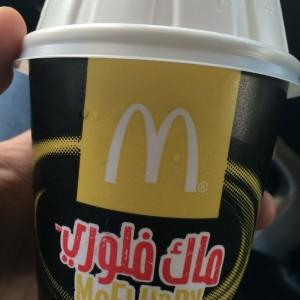mcdonalds: (100, 95, 207, 199)
